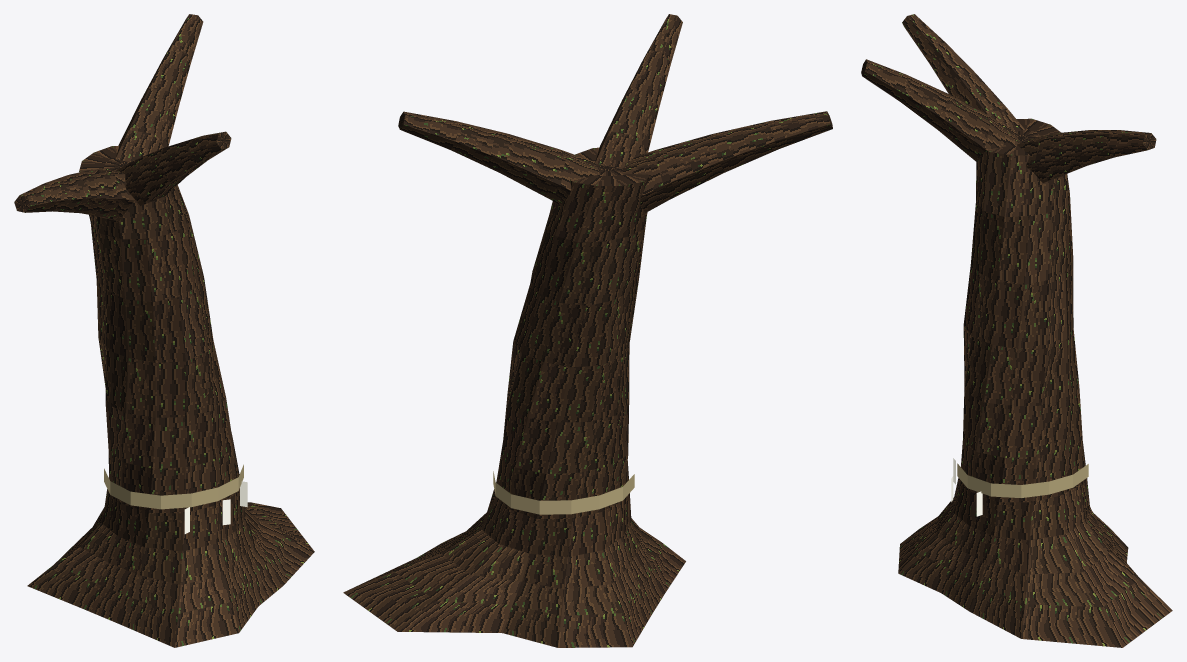
Rendered from AncientTree.glb.
3 views of the same model, side by side, from view 1: azimuth 30°, elevation 25°; view 2: azimuth 150°, elevation 25°; view 3: azimuth 270°, elevation 25° (orthographic). The views are drawn at different scales.
Parts seen in each view (by area): view 1: Trunk, Limbs, ShimenawaRope; view 2: Trunk, Limbs, ShimenawaRope; view 3: Trunk, Limbs, ShimenawaRope.
Part boxes in pixels (<box>): Trunk: <box>27,146,314,647</box>; Limbs: <box>14,14,231,221</box>; ShimenawaRope: <box>104,464,247,533</box>; Trunk: <box>343,147,685,647</box>; Limbs: <box>398,14,832,212</box>; ShimenawaRope: <box>493,471,634,514</box>; Trunk: <box>898,118,1172,647</box>; Limbs: <box>861,14,1156,182</box>; ShimenawaRope: <box>951,458,1088,516</box>.
Size of the model in its own units: 6.27 by 8.33 by 4.73.
3 materials, 1 textured.
